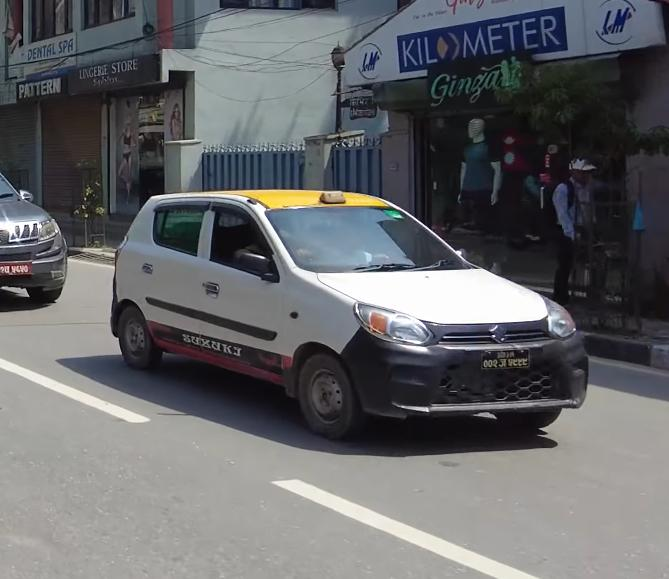car: (0, 168, 71, 310)
taxi: (107, 180, 582, 448)
